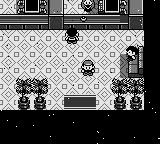main: (80, 61, 96, 76)
no-caminable: (1, 0, 160, 143), (112, 78, 144, 109), (16, 79, 48, 109), (1, 16, 48, 30), (96, 16, 128, 30), (48, 0, 63, 29), (17, 0, 48, 14), (129, 0, 143, 29), (98, 0, 127, 14), (64, 15, 79, 30)
npc: (64, 28, 80, 44), (126, 46, 138, 61), (80, 0, 95, 11)
puerta: (61, 95, 99, 109)
recuperarse: (80, 15, 95, 30)
